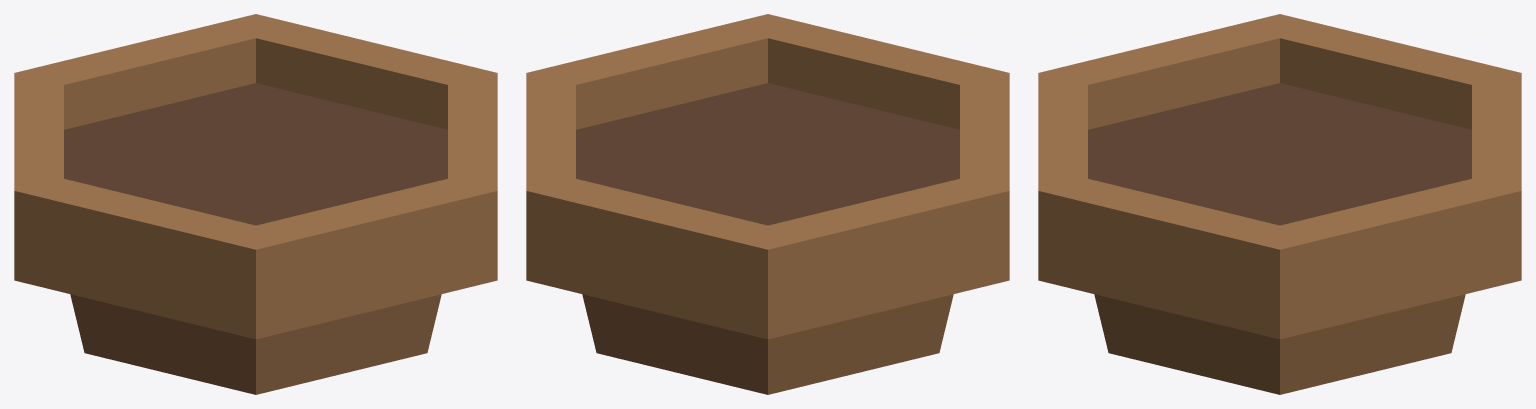
The model's file is pot_large.glb.
The picture shows the model from 3 angles, left to right: view 1: azimuth 30°, elevation 25°; view 2: azimuth 150°, elevation 25°; view 3: azimuth 270°, elevation 25°; orthographic projection.
Visible parts, largest first — view 1: pot_large; view 2: pot_large; view 3: pot_large.
Boxes of the visible parts, x1,y1,x2,y2 form: pot_large: [14, 14, 497, 394]; pot_large: [526, 14, 1009, 394]; pot_large: [1038, 14, 1521, 394].
Size of the model in its own units: 0.5636 by 0.2 by 0.4881.
